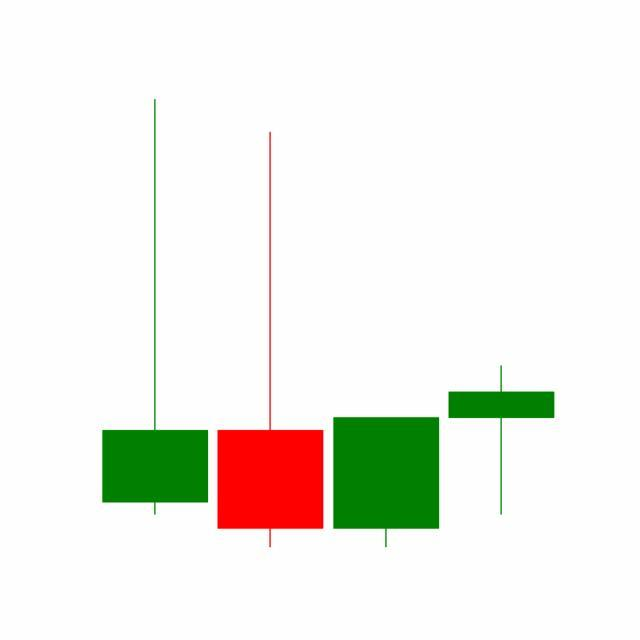Marubozu: (329, 416, 445, 550)
